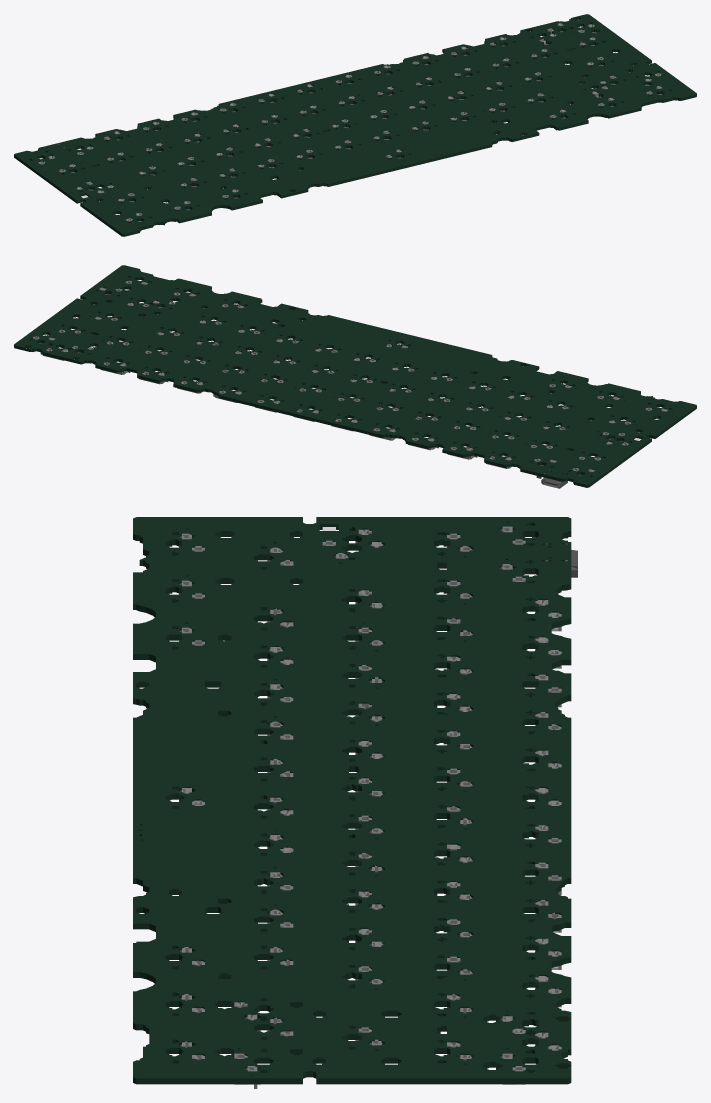
The model's file is zed60-hs.glb.
3 renders of one model, top to bottom at view 1: azimuth 30°, elevation 25°; view 2: azimuth 150°, elevation 25°; view 3: azimuth 270°, elevation 25°, orthographic. The views are drawn at different scales.
Parts seen in each view (by area): view 1: zed60-hs; view 2: zed60-hs; view 3: zed60-hs.
Boxes of the visible parts, left/top/right/bottom form: zed60-hs: left=14, top=14, right=696, bottom=236; zed60-hs: left=14, top=265, right=696, bottom=488; zed60-hs: left=133, top=517, right=577, bottom=1088.
Bounding box in the file's own units: 284 × 4.2 × 95.2.
